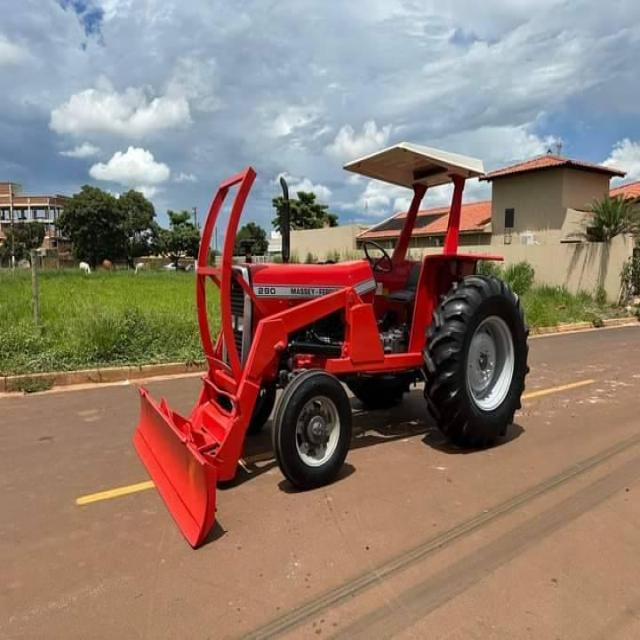Tratores - v5 YOLO V8L 2024-11-13: (226, 130, 532, 484)
